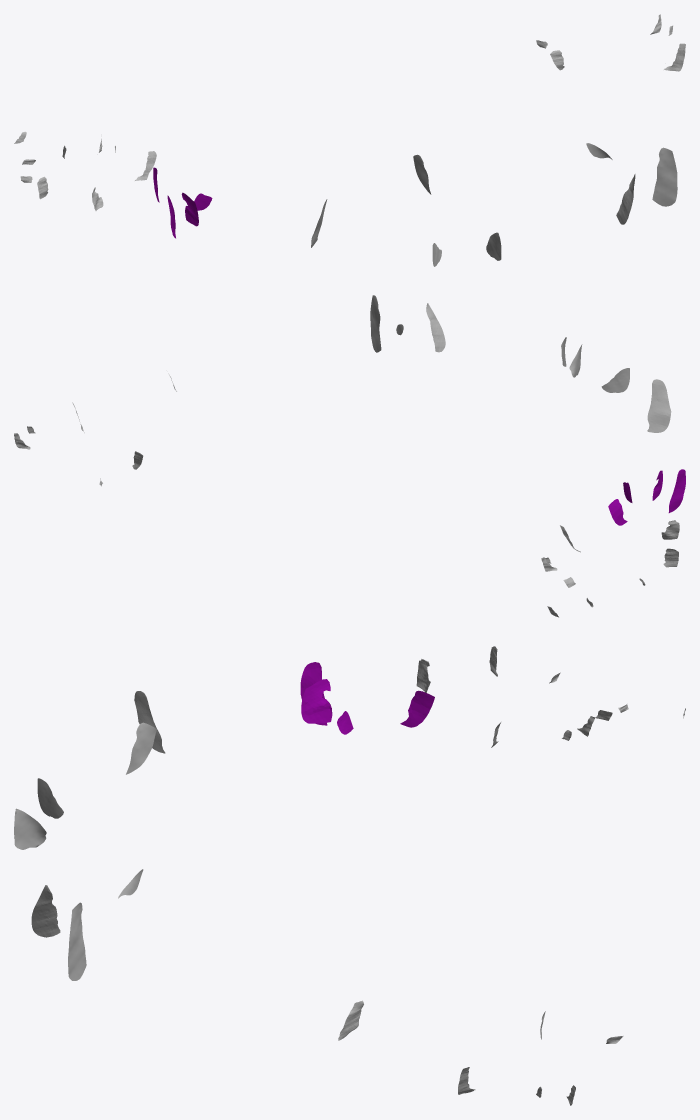
File: fractures.glb
3 views of the same model, one above another, from view 1: azimuth 30°, elevation 25°; view 2: azimuth 150°, elevation 25°; view 3: azimuth 270°, elevation 25° (orthographic). The views are drawn at different scales.
Visible parts, largest first — view 1: 8.001, Teeth_3.001, 6, 15, 12_Boolean_current.001; view 2: Teeth_3.001, 8.001, 5.001, 15, 6; view 3: Teeth_3.001, 6, 8.001, 15.
Part boxes in pixels (<box>): 8.001: <box>586,143,677,224</box>; Teeth_3.001: <box>153,167,212,238</box>; 6: <box>413,154,501,266</box>; 15: <box>20,139,156,210</box>; 12_Boolean_current.001: <box>536,14,685,71</box>; Teeth_3.001: <box>608,469,685,525</box>; 8.001: <box>370,295,445,352</box>; 5.001: <box>647,379,671,432</box>; 15: <box>541,520,679,587</box>; 6: <box>561,337,629,392</box>; Teeth_3.001: <box>300,662,434,734</box>; 6: <box>14,722,156,849</box>; 8.001: <box>31,869,143,980</box>; 15: <box>416,646,612,747</box>.
Size of the model in its own units: 61.41 by 8.8 by 41.4.
